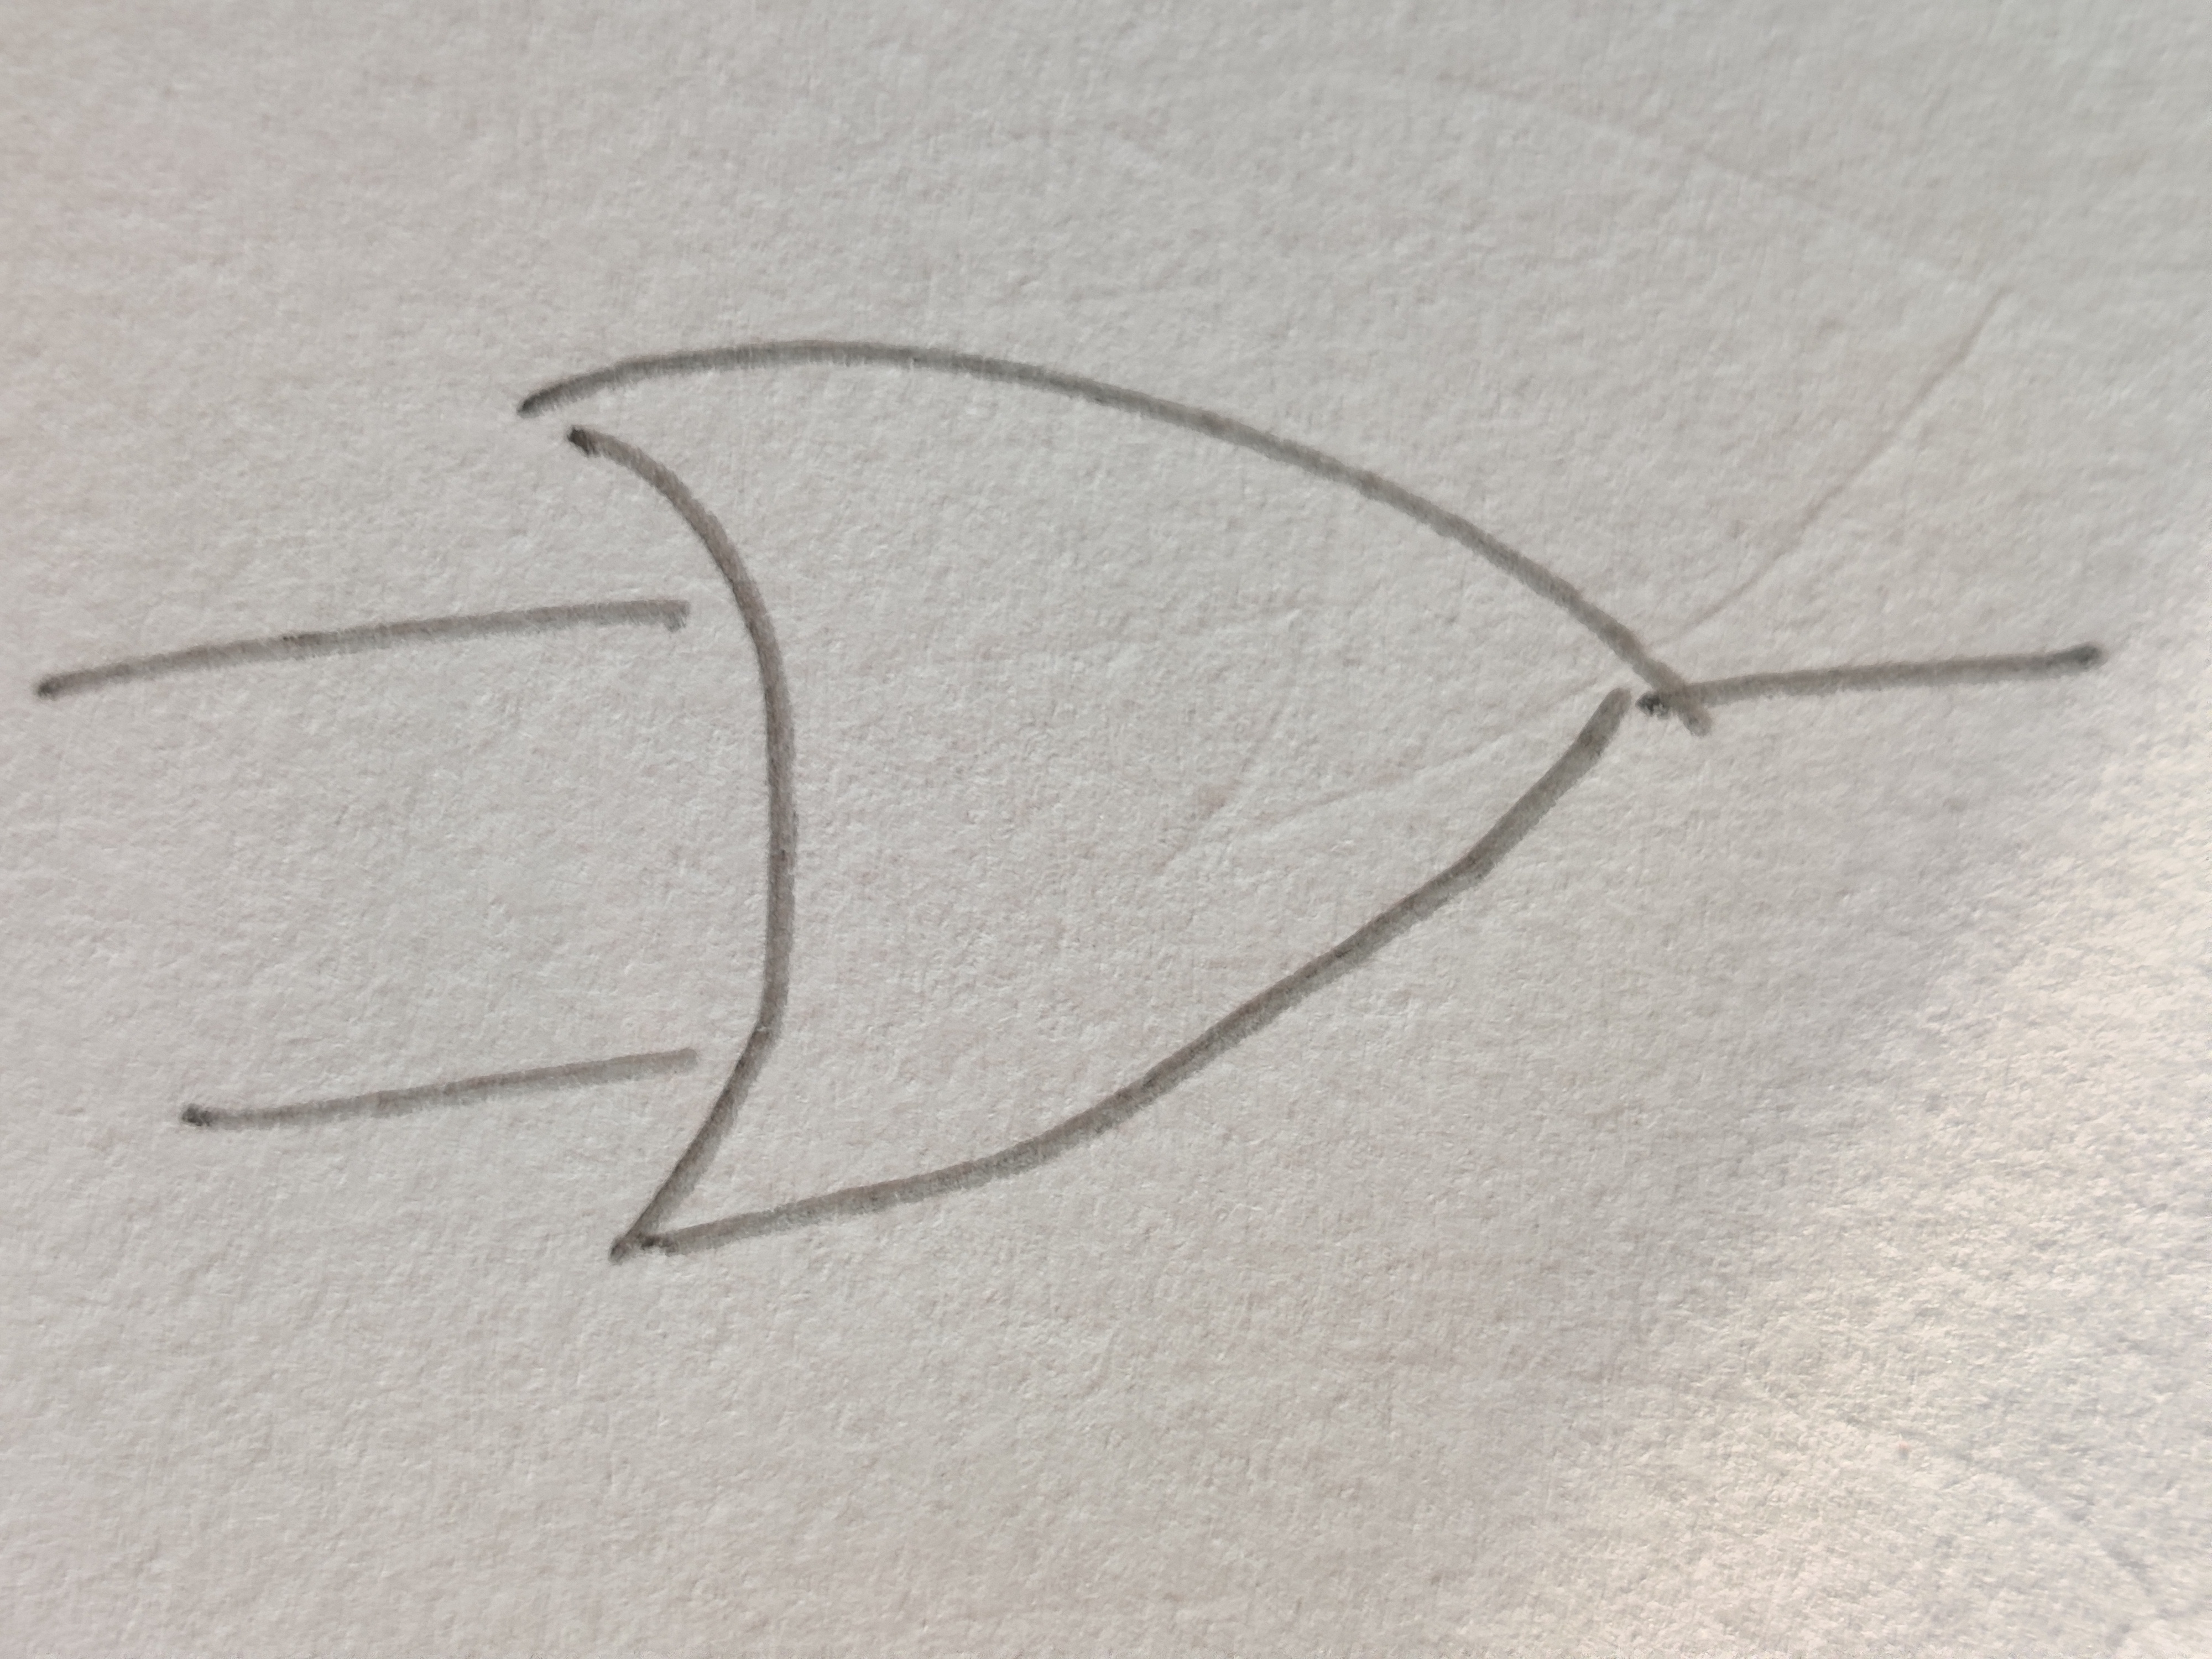or: (516, 342, 1649, 1256)
